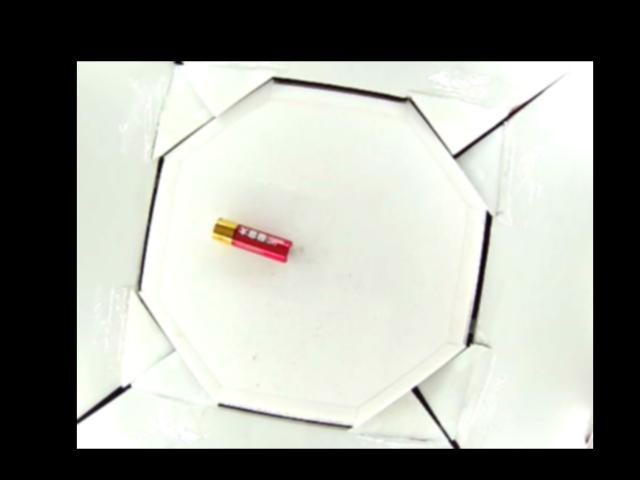Battery: (212, 216, 294, 260)
